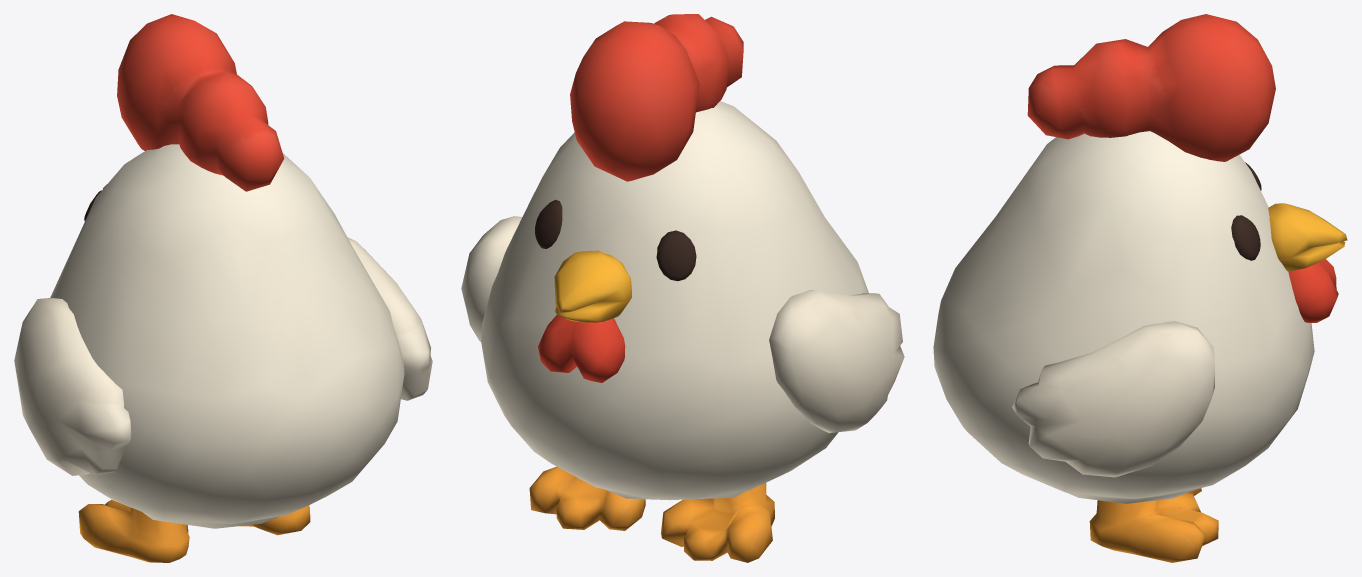
File: hen-game.glb
The picture shows the model from 3 angles, left to right: view 1: azimuth 30°, elevation 25°; view 2: azimuth 150°, elevation 25°; view 3: azimuth 270°, elevation 25°; orthographic projection. The views are drawn at different scales.
Visible parts, largest first — view 1: Body, Comb, Wing.R, Foot.R, Wing.L, Foot.L; view 2: Body, Comb, Wing.R, Foot.R, Beak, Foot.L, Wattle, Wing.L, Eye.R, Eye.L; view 3: Body, Comb, Wing.L, Foot.L, Beak, Wattle, Eye.L.
Boxes of the visible parts, x1,y1,x2,y2 form: Body: [50, 144, 404, 528]; Comb: [117, 14, 284, 191]; Wing.R: [14, 298, 131, 475]; Foot.R: [78, 500, 189, 562]; Wing.L: [347, 237, 432, 400]; Foot.L: [240, 505, 310, 535]; Body: [481, 101, 868, 500]; Comb: [570, 14, 743, 181]; Wing.R: [769, 290, 904, 432]; Foot.R: [660, 483, 774, 562]; Beak: [554, 250, 631, 322]; Foot.L: [529, 466, 645, 530]; Wattle: [538, 314, 625, 382]; Wing.L: [461, 216, 522, 341]; Eye.R: [656, 230, 696, 281]; Eye.L: [535, 199, 562, 248]; Body: [933, 131, 1314, 503]; Comb: [1027, 14, 1275, 161]; Wing.L: [1012, 321, 1214, 477]; Foot.L: [1089, 493, 1218, 562]; Beak: [1268, 203, 1347, 271]; Wattle: [1288, 259, 1338, 322]; Eye.L: [1231, 215, 1260, 260].
Size of the model in its own units: 0.79 by 0.995 by 0.755.
7 materials, 6 textured.
